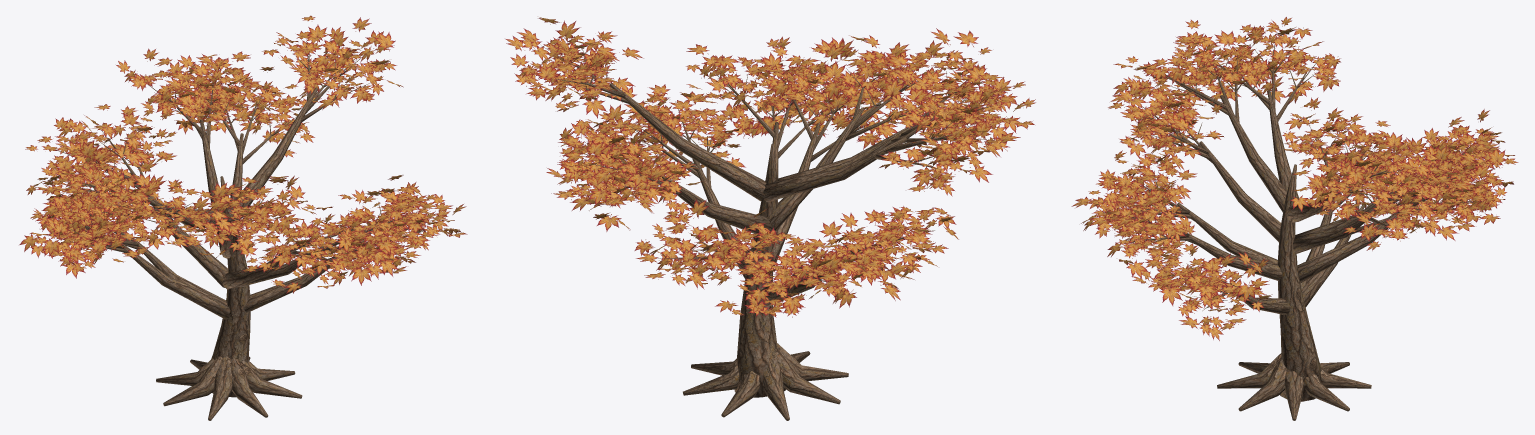
File: MaplePolish_3_Far.fbx
3 views of the same model, side by side, from view 1: azimuth 30°, elevation 25°; view 2: azimuth 150°, elevation 25°; view 3: azimuth 270°, elevation 25° (orthographic). The views are drawn at different scales.
Parts seen in each view (by area): view 1: MaplePolish_3_Far_Leaves, MaplePolish_3_Far_Wood; view 2: MaplePolish_3_Far_Leaves, MaplePolish_3_Far_Wood; view 3: MaplePolish_3_Far_Leaves, MaplePolish_3_Far_Wood.
Part boxes in pixels (x1,y1,x2,y2): MaplePolish_3_Far_Leaves: [19, 15, 467, 293]; MaplePolish_3_Far_Wood: [48, 39, 441, 420]; MaplePolish_3_Far_Leaves: [505, 17, 1035, 317]; MaplePolish_3_Far_Wood: [542, 44, 1000, 420]; MaplePolish_3_Far_Leaves: [1071, 17, 1518, 340]; MaplePolish_3_Far_Wood: [1107, 37, 1496, 420].
Bounding box in the file's own units: 11.99 × 8.92 × 11.72.
